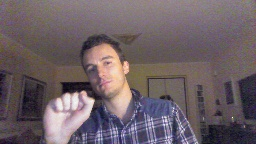Pugno: (40, 89, 95, 135)
